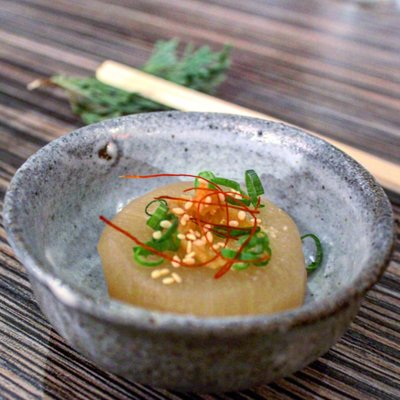curry: (139, 37, 235, 95)
sushi: (10, 69, 398, 400)
taco: (97, 173, 308, 318)
